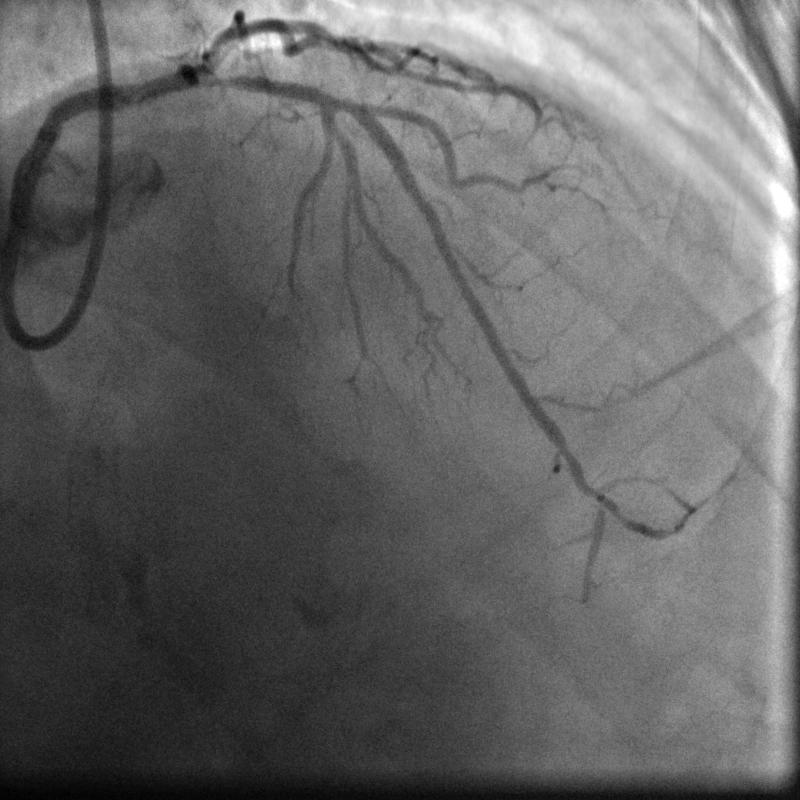Stenosis: (198, 61, 269, 95)
